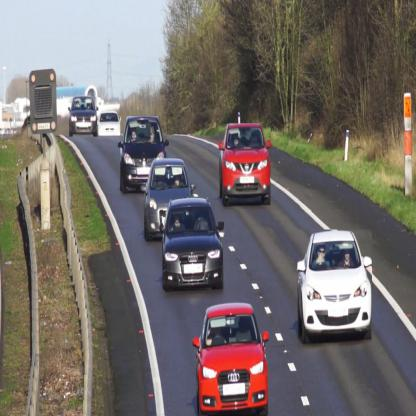car: (299, 231, 374, 352), (197, 299, 270, 416), (164, 199, 225, 291), (220, 124, 272, 211), (121, 117, 168, 193), (70, 98, 100, 138)
